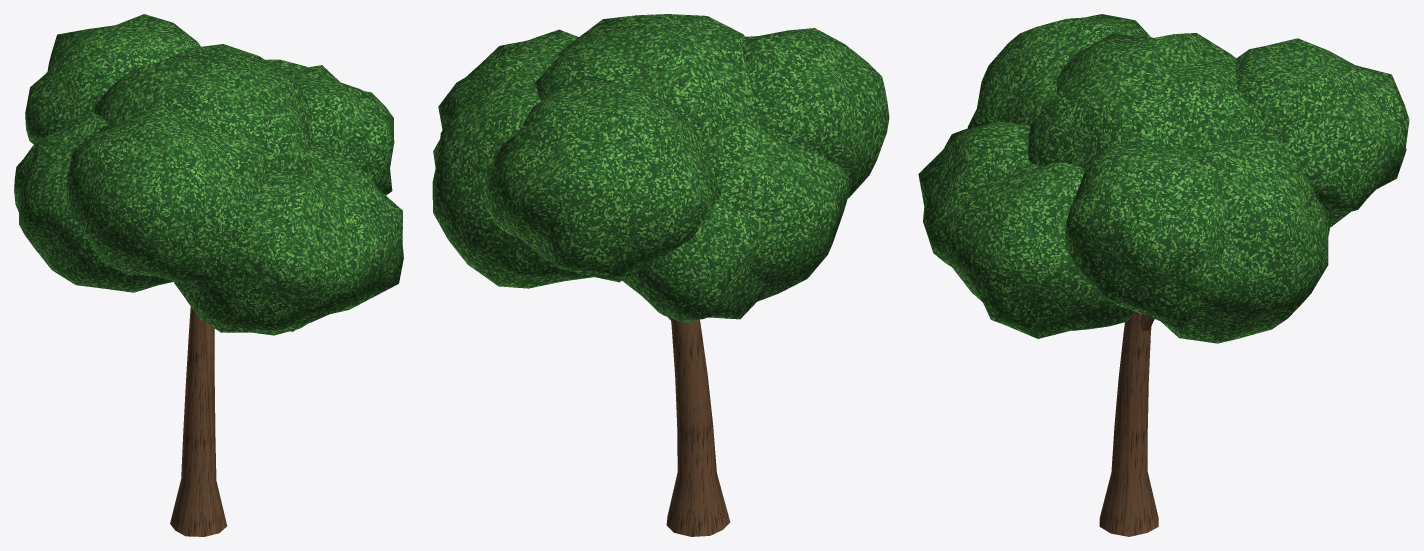
The model's file is tree_b.glb.
3 views of the same model, side by side, from view 1: azimuth 30°, elevation 25°; view 2: azimuth 150°, elevation 25°; view 3: azimuth 270°, elevation 25° (orthographic). The views are drawn at different scales.
Parts seen in each view (by area): view 1: tree_b; view 2: tree_b; view 3: tree_b.
Part boxes in pixels (bbox=[...]): tree_b: bbox=[14, 14, 403, 536]; tree_b: bbox=[432, 14, 889, 536]; tree_b: bbox=[918, 14, 1409, 536].
Size of the model in its own units: 6.36 by 7.79 by 7.1.
Materials: 2 (2 with a texture image).
